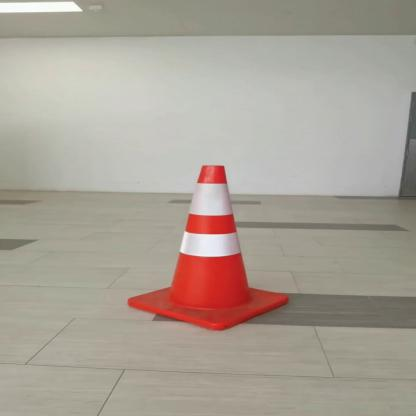cone: (123, 158, 292, 334)
